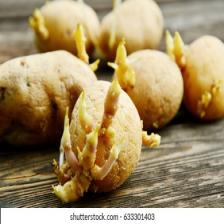Sprouted potato: (0, 46, 104, 186), (54, 71, 143, 201), (105, 46, 187, 145), (166, 31, 224, 123), (30, 1, 102, 56), (109, 0, 167, 57)
